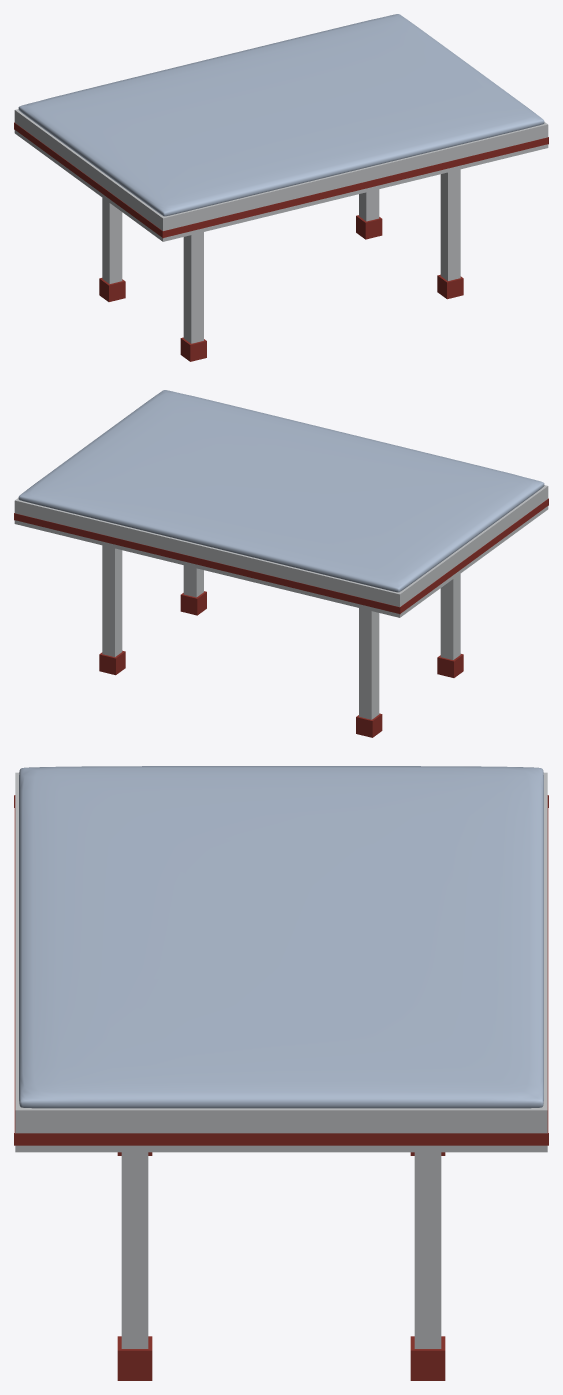
File: gas_canopy.glb
The picture shows the model from 3 angles, top to bottom: view 1: azimuth 30°, elevation 25°; view 2: azimuth 150°, elevation 25°; view 3: azimuth 270°, elevation 25°; orthographic projection. The views are drawn at different scales.
Parts seen in each view (by area): view 1: Prop; view 2: Prop; view 3: Prop.
Part boxes in pixels (x1,y1,x2,y2): Prop: [14, 14, 548, 361]; Prop: [14, 390, 548, 737]; Prop: [14, 766, 548, 1380].
Size of the model in its own units: 12.04 by 5.55 by 8.04.
